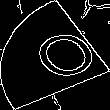O_SE: (13, 22, 97, 88)
